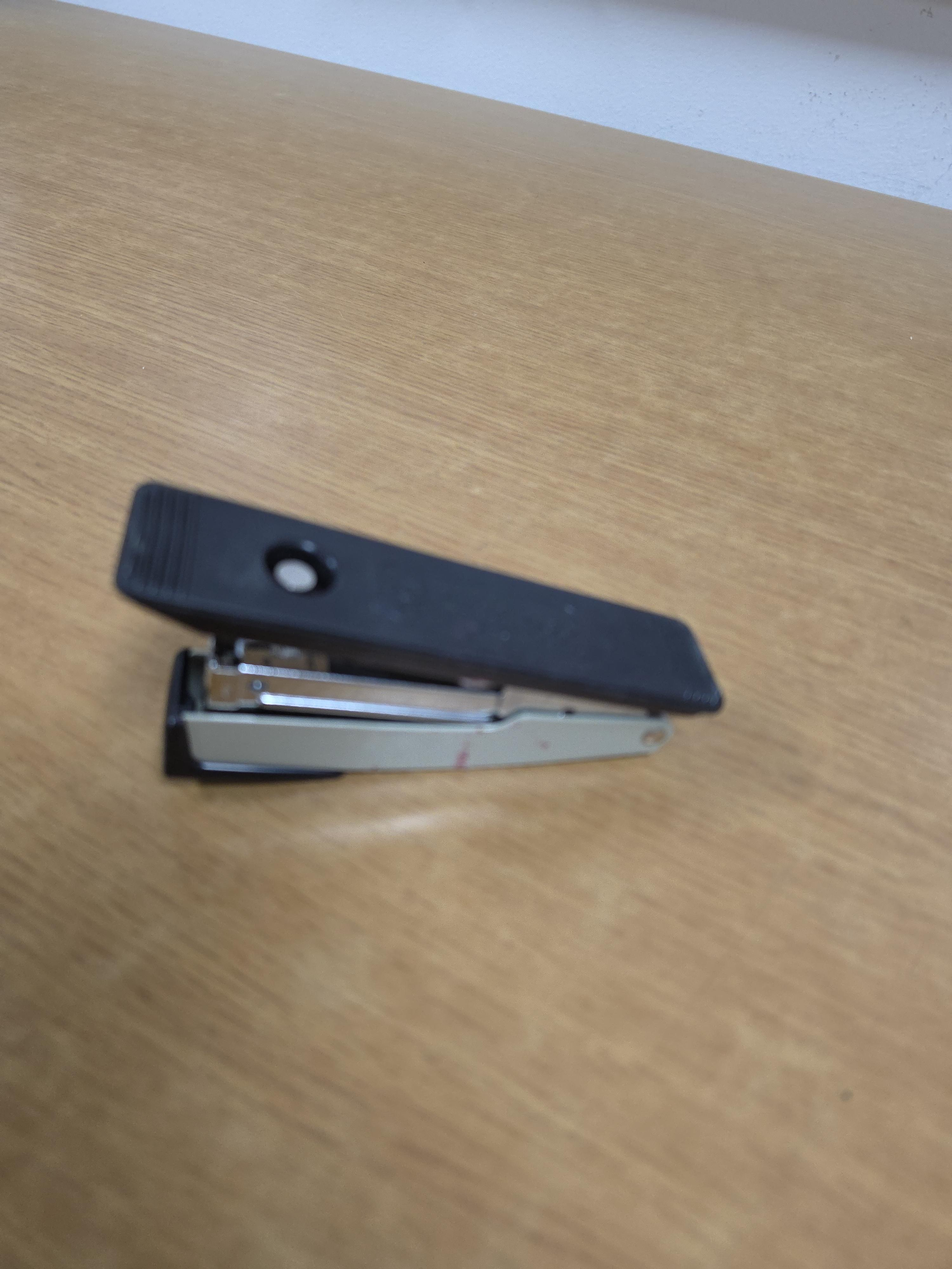stapler: (115, 483, 724, 780)
